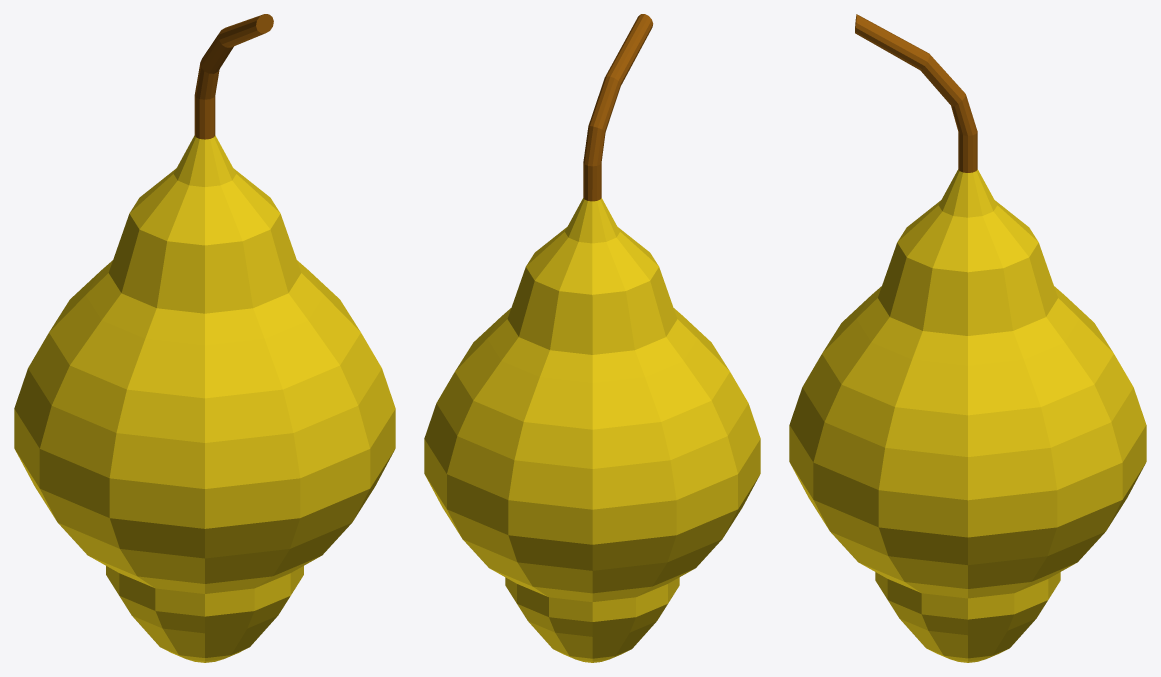
The model's file is Kwaki_In_Tree.fbx.
3 views of the same model, side by side, from view 1: azimuth 30°, elevation 25°; view 2: azimuth 150°, elevation 25°; view 3: azimuth 270°, elevation 25° (orthographic). The views are drawn at different scales.
Visible parts, largest first — view 1: Cylinder; view 2: Cylinder; view 3: Cylinder.
Boxes of the visible parts, x1,y1,x2,y2 form: Cylinder: [14, 14, 395, 662]; Cylinder: [424, 14, 760, 662]; Cylinder: [789, 14, 1146, 662].
Bounding box in the file's own units: 442 × 874 × 442.
